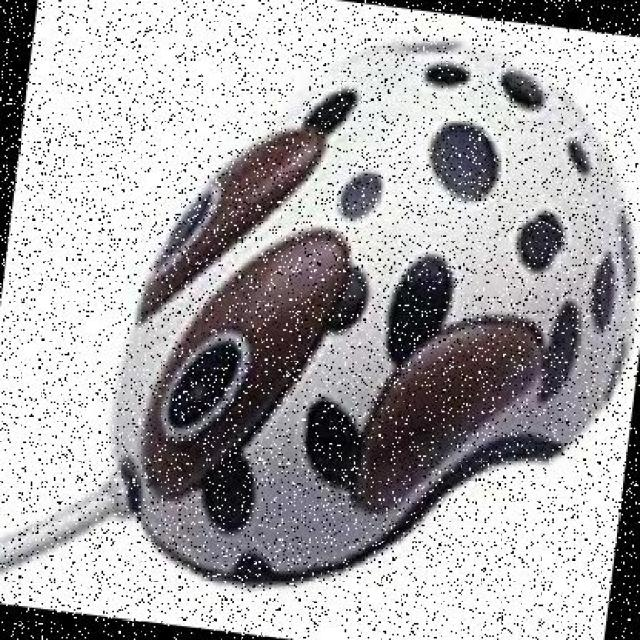mause: (46, 0, 638, 638)
